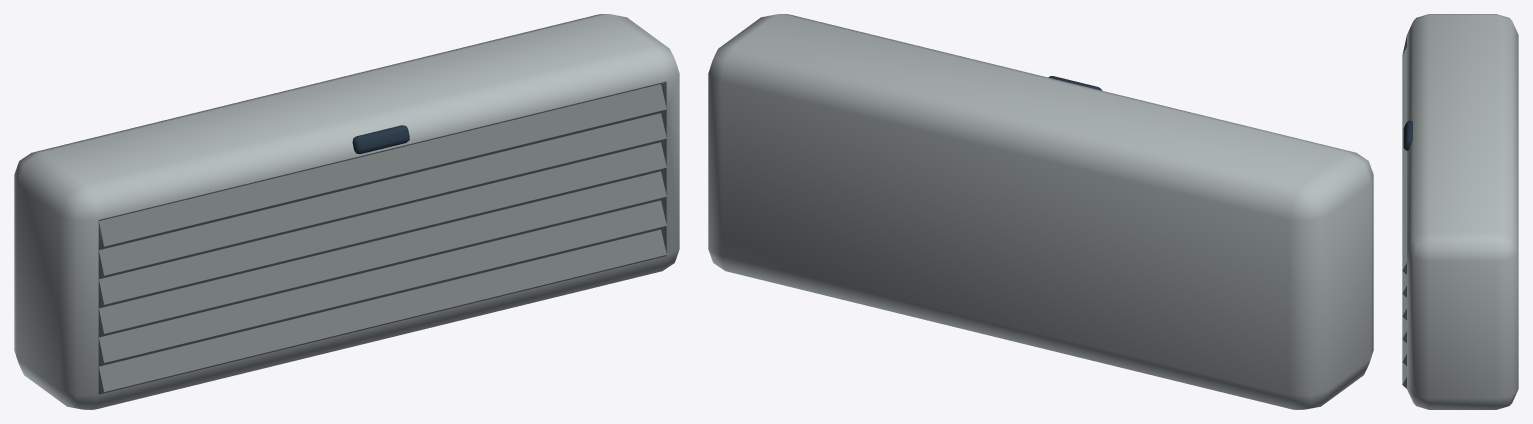
The model's file is Air-Conditioning-2.fbx.
3 renders of one model, left to right at view 1: azimuth 30°, elevation 25°; view 2: azimuth 150°, elevation 25°; view 3: azimuth 270°, elevation 25°, orthographic. The views are drawn at different scales.
Visible parts, largest first — view 1: Air-Conditioning-2; view 2: Air-Conditioning-2; view 3: Air-Conditioning-2.
Boxes of the visible parts, left/top/right/bottom form: Air-Conditioning-2: left=14, top=14, right=679, bottom=409; Air-Conditioning-2: left=708, top=14, right=1373, bottom=409; Air-Conditioning-2: left=1402, top=14, right=1518, bottom=409.
Bounding box in the file's own units: 1 × 0.35 × 0.2082.
